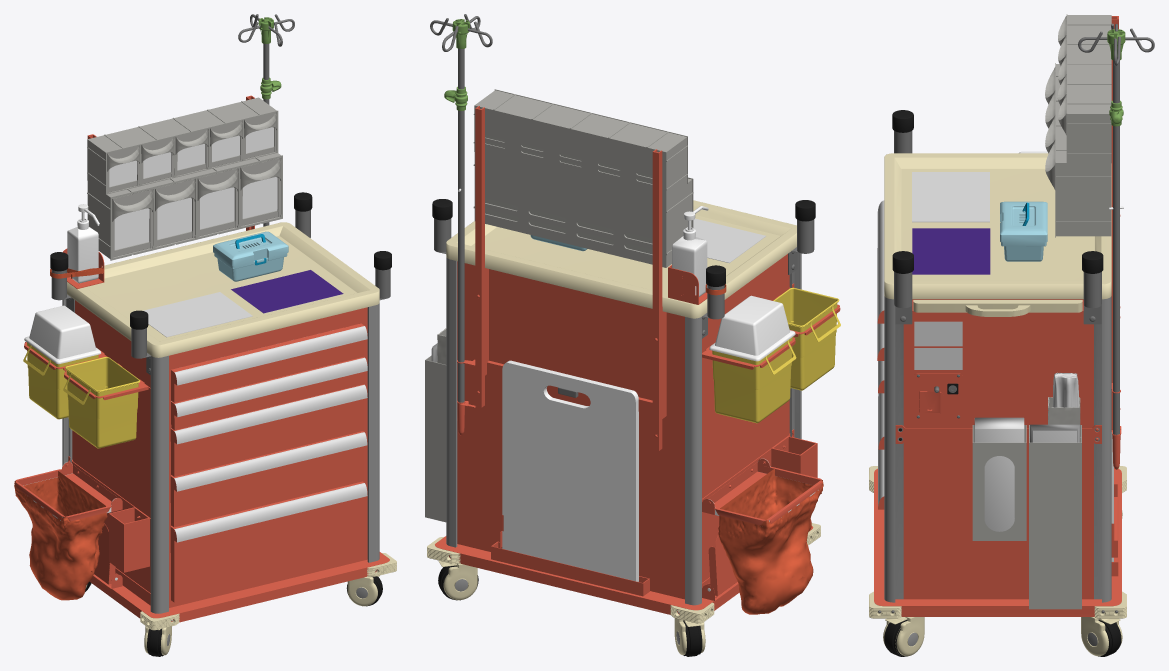
The picture shows the model from 3 angles, left to right: view 1: azimuth 30°, elevation 25°; view 2: azimuth 150°, elevation 25°; view 3: azimuth 270°, elevation 25°; orthographic projection. The views are drawn at different scales.
Visible parts, largest first — view 1: table, car, drawer05.001, drawer04, drawer03, bridge, garbage bag, drawer01, drawer02, ground, collector02, foothold (+20 smaller); view 2: car, emergency board, bridge, table, garbage bag, ground, collector01, collector02, gloves, drip holder, collector01_1, foothold (+6 smaller); view 3: car, table, gloves, bridge, ground, M02_02, foothold, drip holder, M02__05, M08_06, tires, table02 (+9 smaller).
Part boxes in pixels (box(x1,y1,x2,y2)): table: box(62, 222, 379, 613); car: box(24, 95, 367, 607); drawer05.001: box(170, 481, 367, 602); drawer04: box(170, 431, 367, 527); drawer03: box(170, 384, 367, 476); bridge: box(87, 97, 282, 260); garbage bag: box(14, 471, 107, 600); drawer01: box(171, 323, 367, 402); drawer02: box(171, 357, 367, 430); ground: box(89, 552, 396, 630); collector02: box(63, 356, 140, 448); foothold: box(50, 192, 391, 374); car: box(457, 106, 840, 600); emergency board: box(502, 360, 638, 581); bridge: box(473, 89, 693, 267); table: box(446, 200, 801, 605); garbage bag: box(718, 469, 823, 614); ground: box(427, 523, 820, 623); collector01: box(712, 337, 796, 423); collector02: box(773, 287, 840, 390); gloves: box(425, 328, 446, 522); drip holder: box(430, 14, 492, 402); collector01_1: box(709, 295, 795, 361); foothold: box(432, 199, 815, 338); car: box(895, 16, 1121, 599); table: box(884, 153, 1111, 602); gloves: box(972, 397, 1081, 609); bridge: box(1055, 14, 1111, 237); ground: box(869, 466, 1126, 618); M02_02: box(912, 172, 989, 222); foothold: box(892, 110, 1103, 324); drip holder: box(1078, 23, 1154, 434); M02__05: box(912, 228, 990, 274); M08_06: box(974, 417, 1024, 531); tires: box(883, 510, 1122, 656); table02: box(913, 300, 1082, 316).
Bounding box in the file's own units: 4.35 × 6.93 × 2.9.
